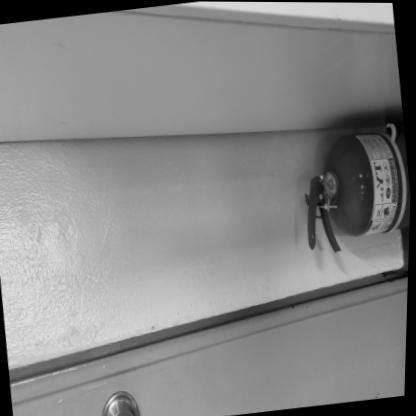FE: (292, 129, 413, 256)
